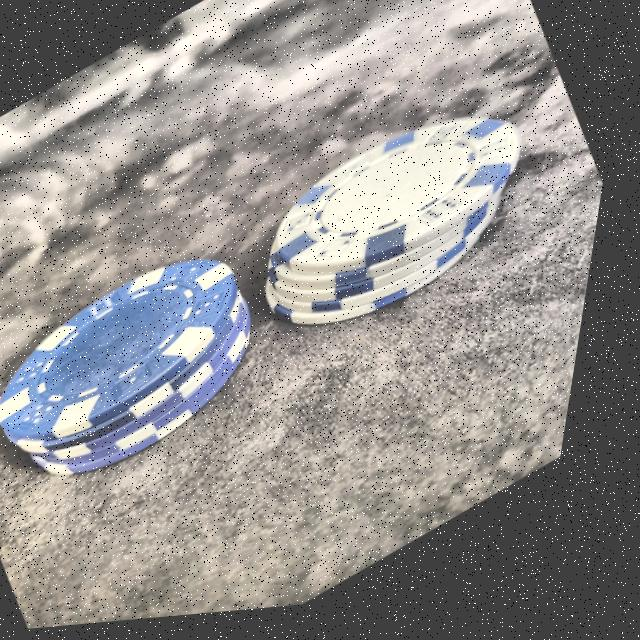Chip: (203, 38, 602, 397), (0, 206, 327, 530)
